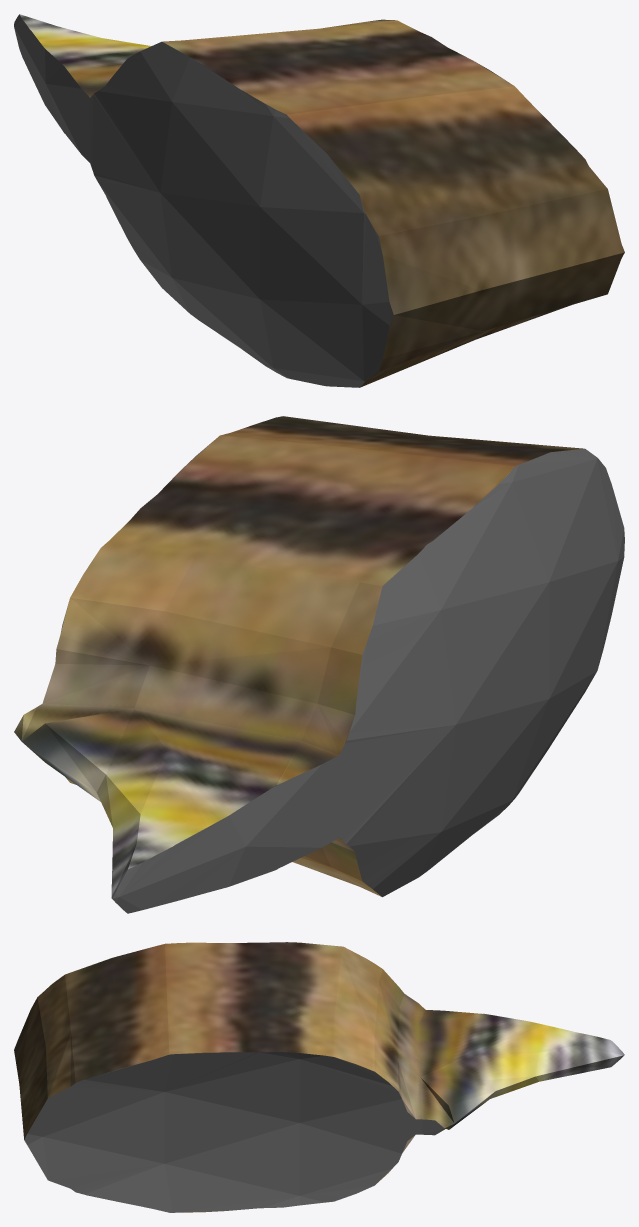
The picture shows the model from 3 angles, top to bottom: view 1: azimuth 30°, elevation 25°; view 2: azimuth 150°, elevation 25°; view 3: azimuth 270°, elevation 25°; orthographic projection. The views are drawn at different scales.
Parts seen in each view (by area): view 1: link_11_visual; view 2: link_11_visual; view 3: link_11_visual.
Part boxes in pixels (x1,y1,x2,y2): link_11_visual: (14,14,624,387); link_11_visual: (14,416,624,913); link_11_visual: (14,942,624,1212).
Size of the model in its own units: 0.00107 by 0.000934 by 0.00253.
Materials: 1 (1 with a texture image).
